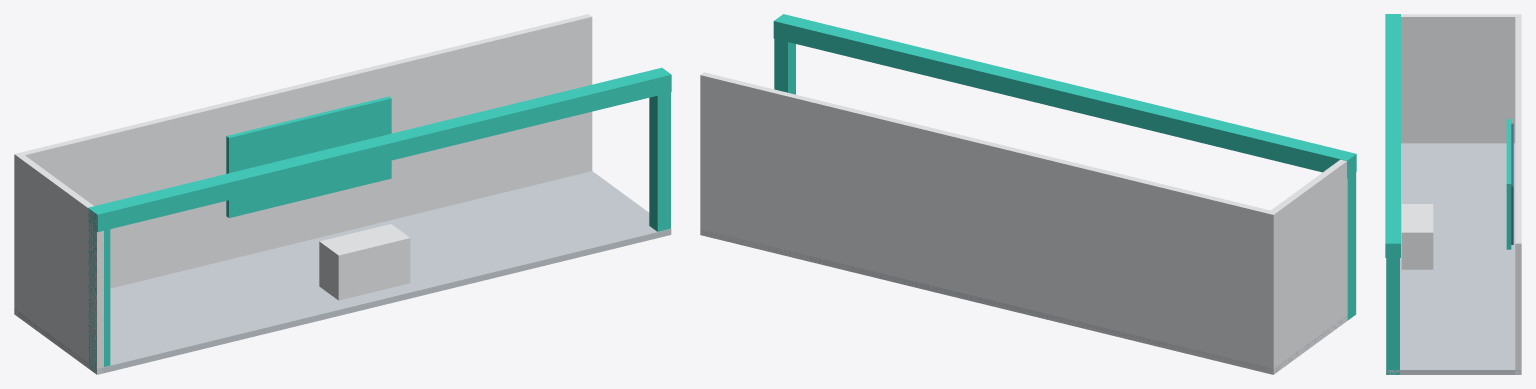
3 renders of one model, left to right at view 1: azimuth 30°, elevation 25°; view 2: azimuth 150°, elevation 25°; view 3: azimuth 270°, elevation 25°, orthographic. The views are drawn at different scales.
Visible parts, largest first — view 1: Exhibition Booth Concept; view 2: Exhibition Booth Concept; view 3: Exhibition Booth Concept.
Part boxes in pixels (bbox=[...]): Exhibition Booth Concept: bbox=[14, 14, 671, 374]; Exhibition Booth Concept: bbox=[700, 14, 1356, 374]; Exhibition Booth Concept: bbox=[1385, 14, 1521, 374].
Size of the model in its own units: 12 by 3.2 by 3.01.
